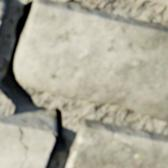brick: (14, 0, 167, 121), (65, 117, 167, 167), (0, 114, 56, 167), (0, 0, 5, 24), (148, 0, 167, 5)
crack: (0, 1, 66, 167), (19, 126, 28, 167), (67, 0, 80, 4)
